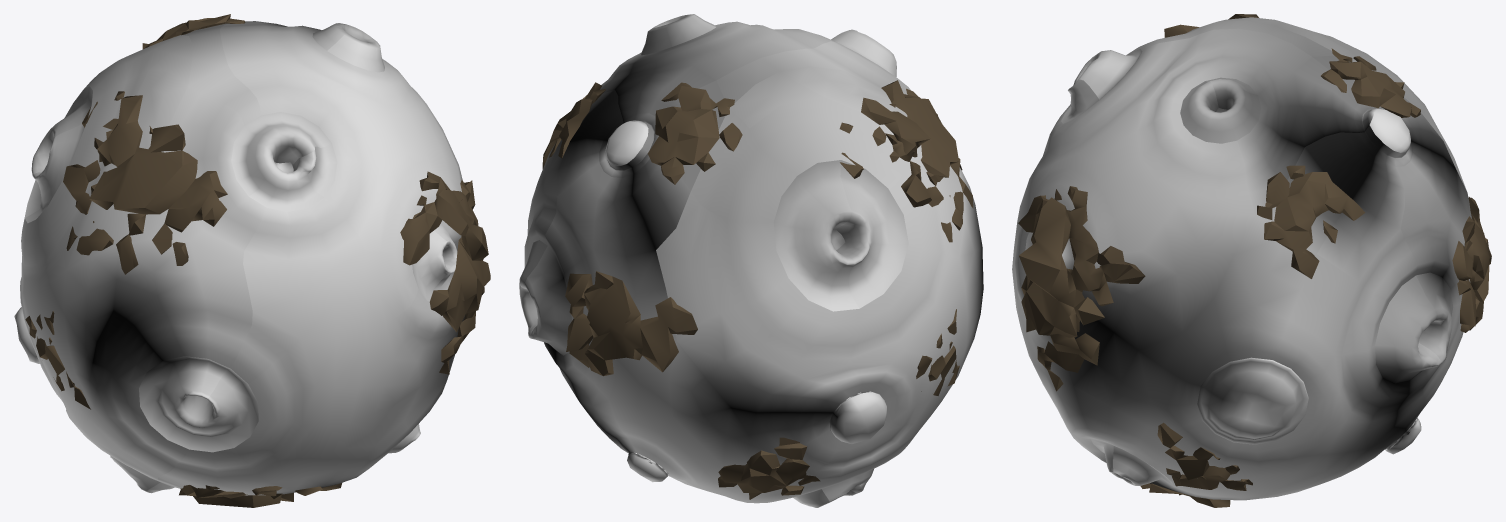
Rendered from p_mesh_gaspotato01_medium_pose1.fbx.
3 renders of one model, left to right at view 1: azimuth 30°, elevation 25°; view 2: azimuth 150°, elevation 25°; view 3: azimuth 270°, elevation 25°, orthographic. The views are drawn at different scales.
Visible parts, largest first — view 1: p_mesh_gaspotato02_pose1; view 2: p_mesh_gaspotato02_pose1; view 3: p_mesh_gaspotato02_pose1.
Boxes of the visible parts, bbox=[...] form: p_mesh_gaspotato02_pose1: bbox=[14, 14, 490, 507]; p_mesh_gaspotato02_pose1: bbox=[519, 14, 983, 507]; p_mesh_gaspotato02_pose1: bbox=[1012, 14, 1491, 507].
Size of the model in its own units: 49.08 by 52.21 by 49.9.
